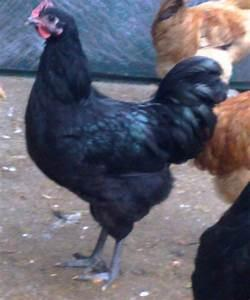hen: (22, 0, 228, 291), (150, 0, 249, 82)
